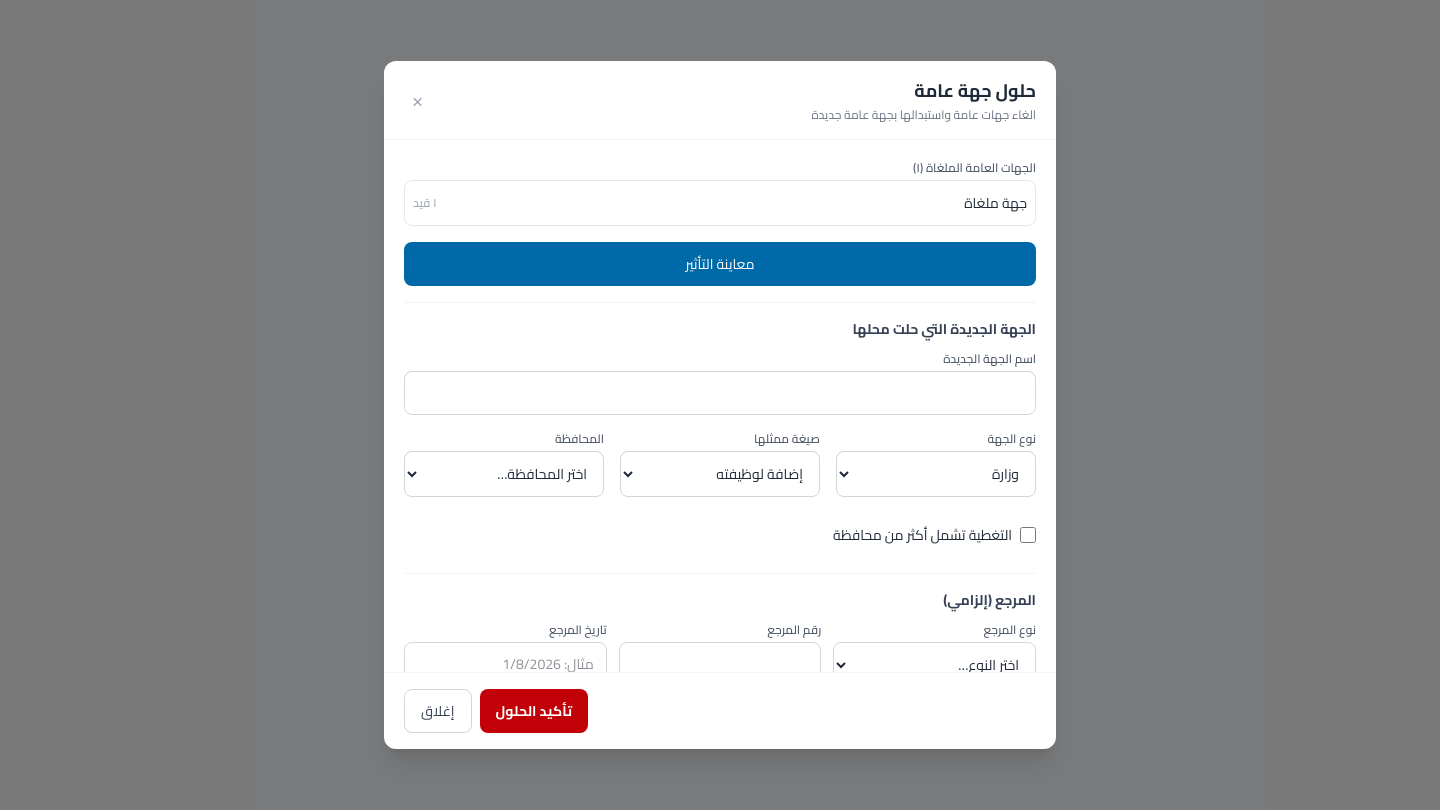
AbolishBranchModal › يحمّل المعاينة ويعرض أثرها
The image size is (1440, 810).
Check: the heading "حلول جهة عامة" is shown, box [914,74,1036,107]
Click the button "معاينة التأثير": {"x": 720, "y": 264} [404,242,1036,286]
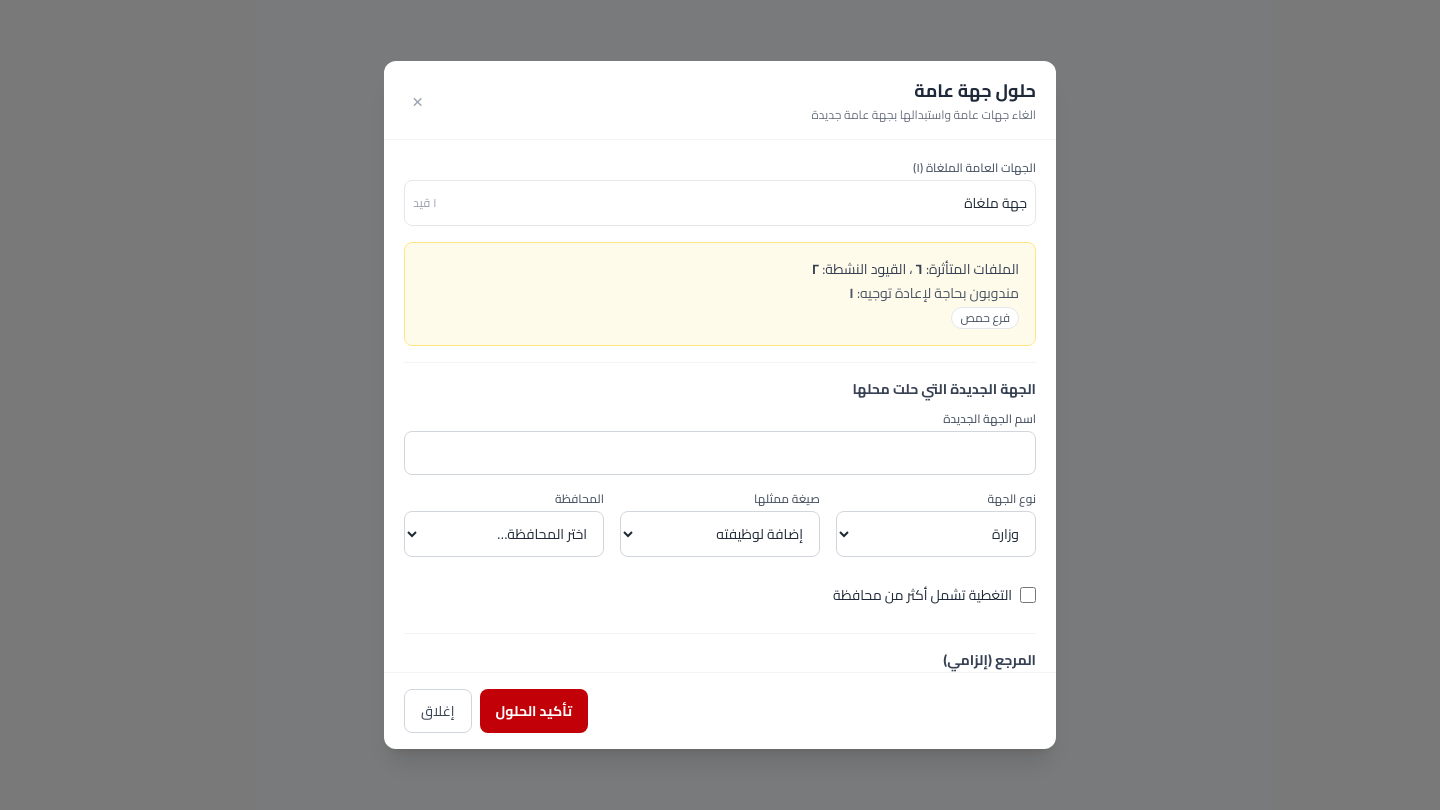
Check: the text "مندوبون بحاجة لإعادة توجيه: ١" is shown, box [849,280,1019,306]
